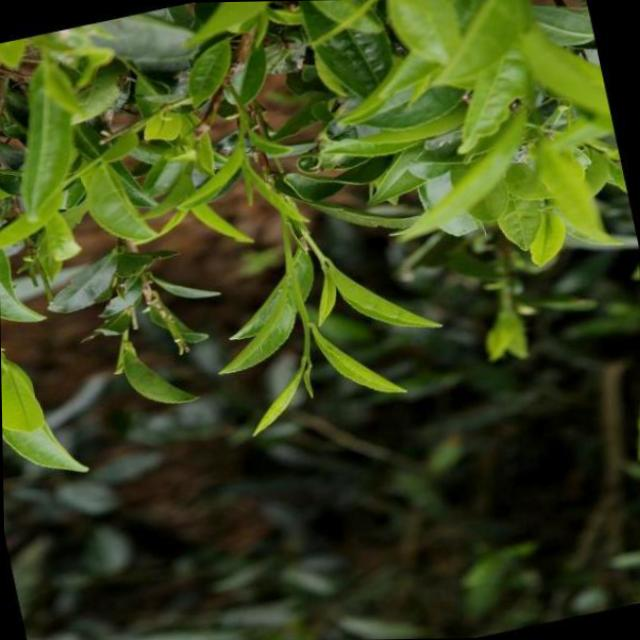Stem: (315, 250, 325, 261), (301, 315, 311, 325)
